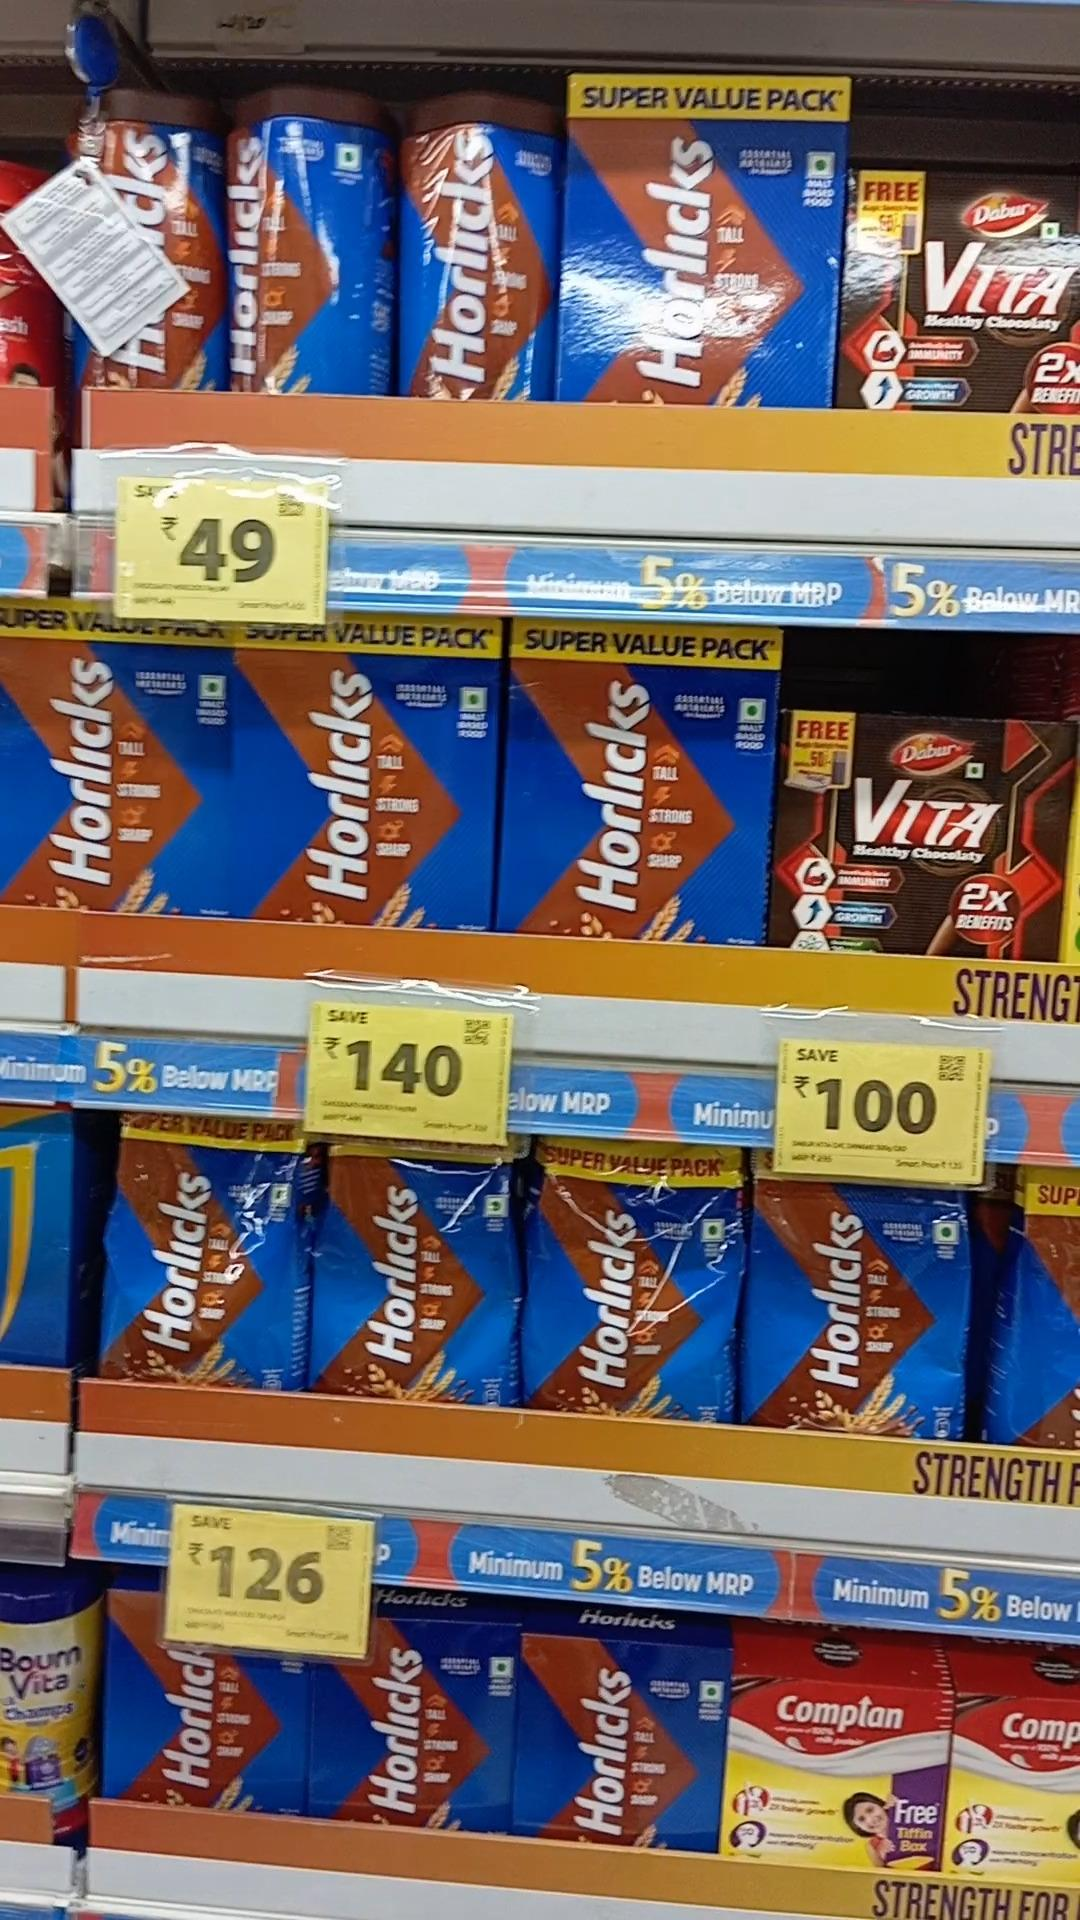BOURN_VITA_CHAMPS_500_G_JAR: (0, 1588, 100, 1855)
COMPLAN_CHOCOLATE_500_GMS_PACK: (729, 1676, 945, 1870), (949, 1693, 1080, 1882)
HORLICK_CHOCOLATE_1_KG_JAR: (69, 84, 218, 405), (409, 90, 551, 414), (236, 86, 368, 401)
HORLICK_CHOCOLATE_1_KG_PACK: (559, 69, 832, 414), (513, 622, 769, 949), (236, 617, 493, 923), (4, 620, 200, 936)
HORLICK_CHOCOLATE_500_G_PACK: (311, 1606, 512, 1826), (527, 1630, 725, 1840), (105, 1604, 299, 1813)
HORLICK_CHOCOLATE_750_G_POUCH: (531, 1137, 733, 1420), (749, 1155, 956, 1425), (309, 1133, 506, 1406), (108, 1118, 297, 1402)
